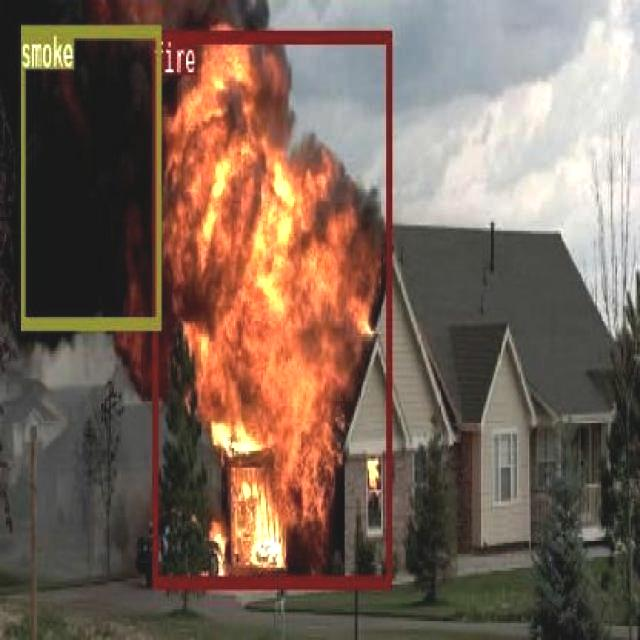fire: (152, 29, 390, 586)
smoke: (18, 25, 160, 328)
